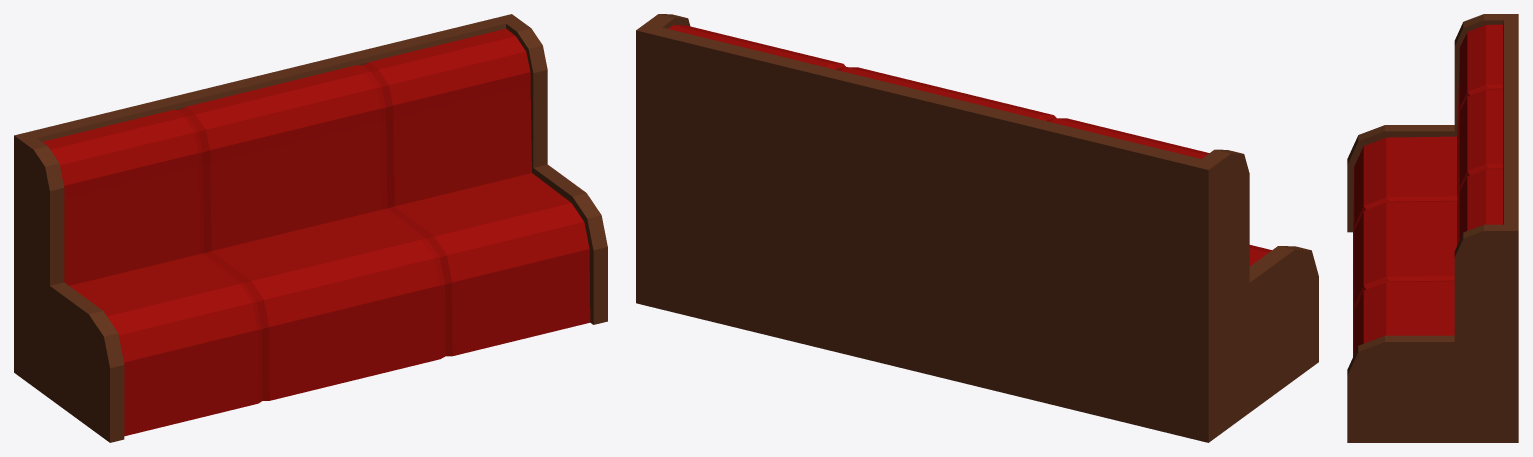
File: Seat.fbx
3 views of the same model, side by side, from view 1: azimuth 30°, elevation 25°; view 2: azimuth 150°, elevation 25°; view 3: azimuth 270°, elevation 25° (orthographic). The views are drawn at different scales.
Parts seen in each view (by area): view 1: Seat.001; view 2: Seat.001; view 3: Seat.001.
Boxes of the visible parts, x1,y1,x2,y2 form: Seat.001: [14, 14, 607, 442]; Seat.001: [636, 14, 1318, 442]; Seat.001: [1347, 14, 1518, 442].
Bounding box in the file's own units: 241 × 110 × 80.48.
